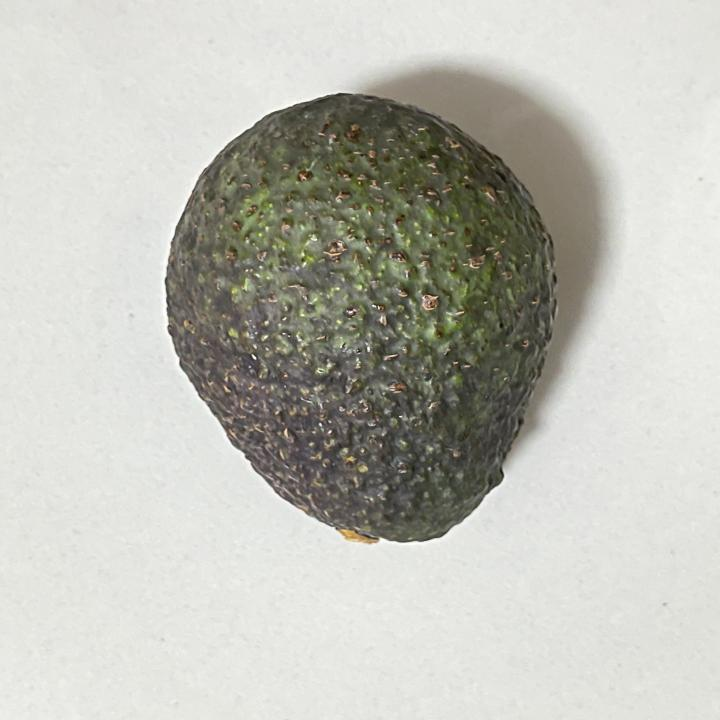Level1: (146, 83, 570, 570)
